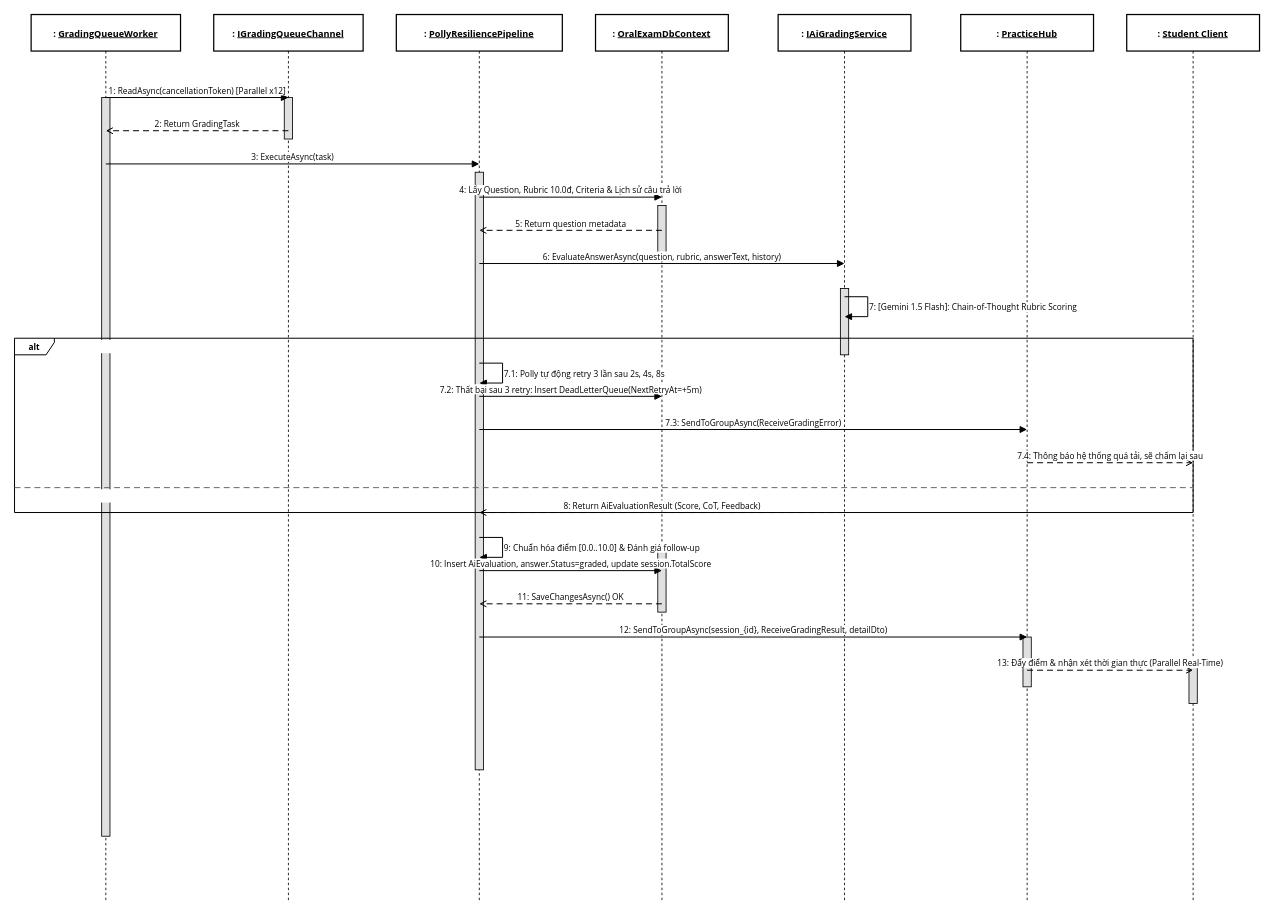
Some shapes in this 1275 by 919 pixel diagram are drawn without their labels. Here are the shapes that lost their labels. From the top down, the centre of each, then its label:
At pixel 141 346: "[AI Lỗi Mạng / Quá Tải 429]".
At pixel 93 495: "[Chấm Điểm Thành Công]".
